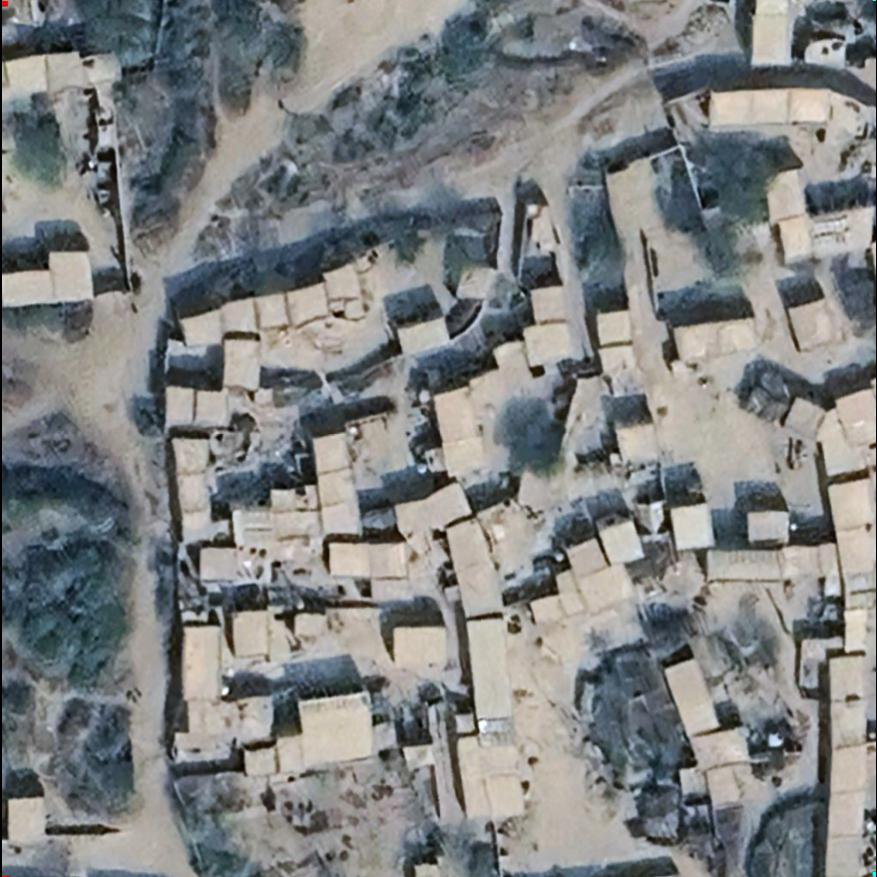Solarpanel: (473, 715, 524, 751)
